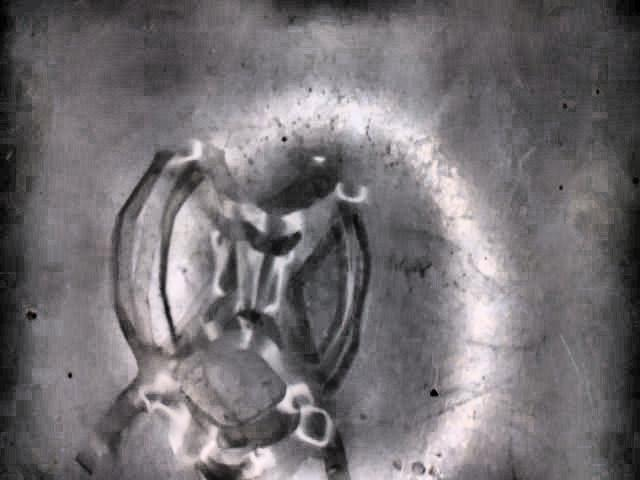Plastic: (78, 137, 371, 479)
